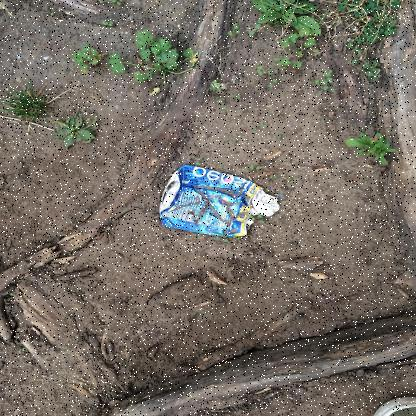metal: (158, 164, 280, 238)
